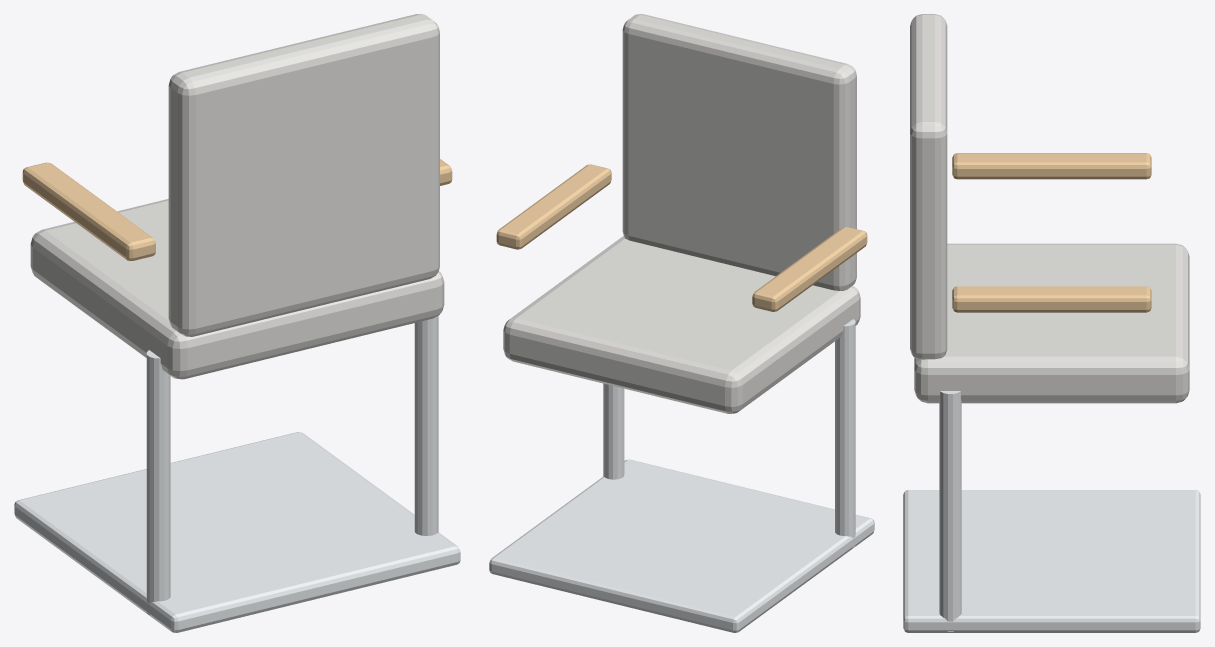
File: meeting_rooms___private_spaces_catalog_72.glb
3 views of the same model, side by side, from view 1: azimuth 30°, elevation 25°; view 2: azimuth 150°, elevation 25°; view 3: azimuth 270°, elevation 25° (orthographic). The views are drawn at different scales.
Visible parts, largest first — view 1: Cube; view 2: Cube; view 3: Cube.
Boxes of the visible parts, bbox=[...] form: Cube: bbox=[14, 14, 460, 632]; Cube: bbox=[489, 14, 874, 632]; Cube: bbox=[903, 14, 1200, 632].
Size of the model in its own units: 0.554 by 0.885 by 0.4756.
